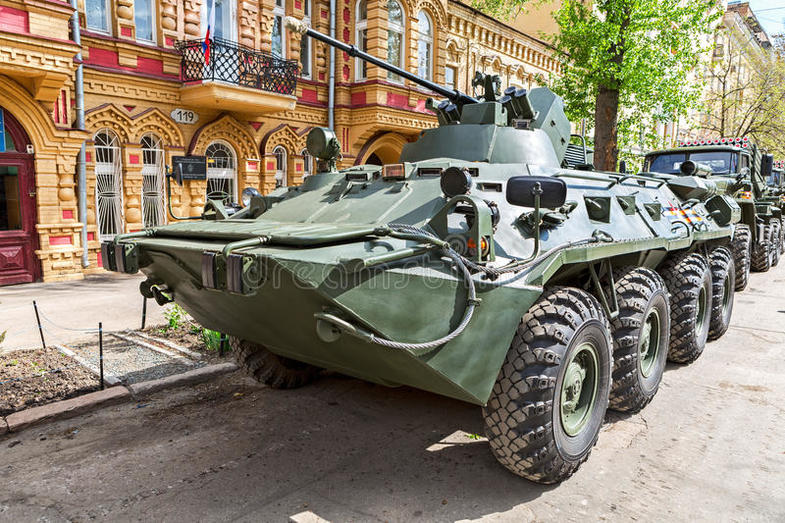btr: (118, 149, 723, 494)
